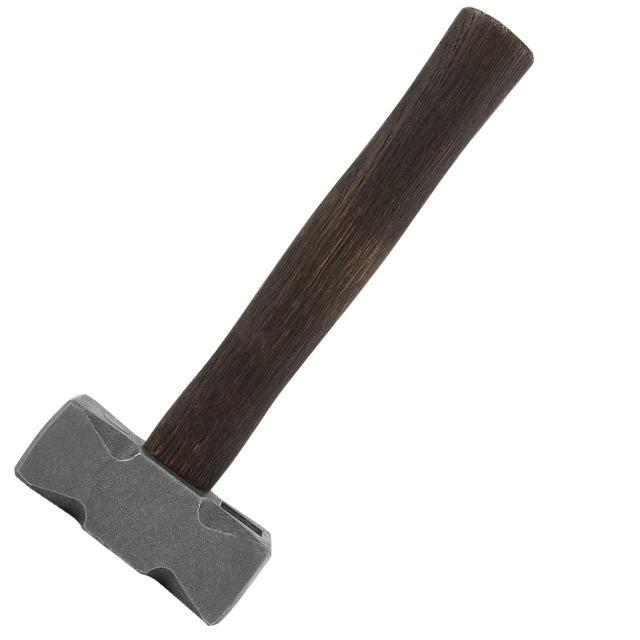hammer: (8, 3, 544, 627)
